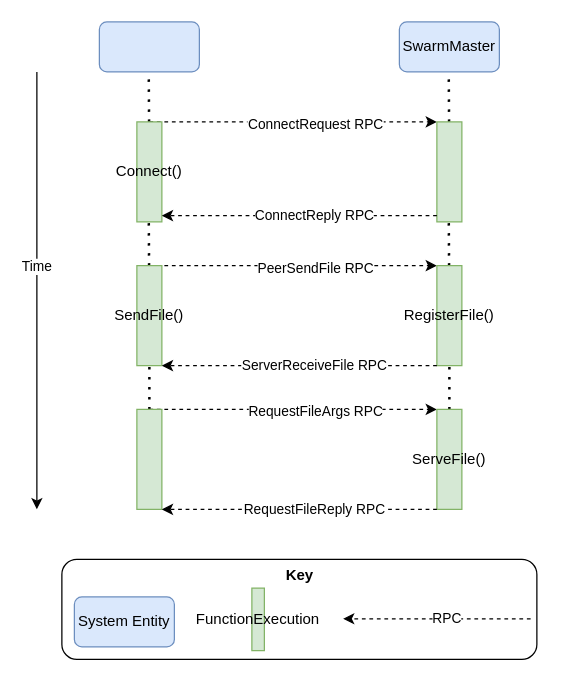
This 563x681 diagram has some shape labels left out. Here are the shapes that lost their labels. From the top down, the centre of each, then its label:
pixel 148 46: Peer
pixel 449 171: ConnectPeer()
pixel 149 458: RequestFile()
